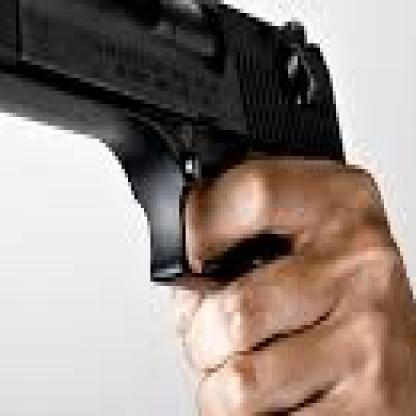gun: (0, 0, 387, 412)
